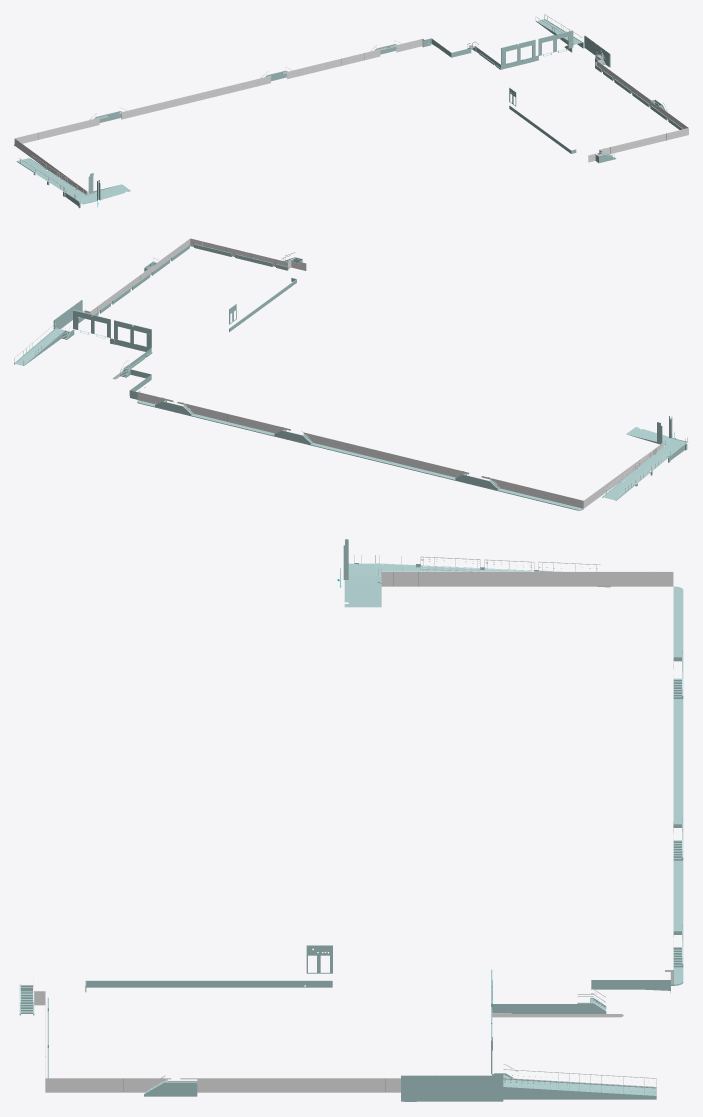
The model's file is storey-0-apron.glb.
3 renders of one model, top to bottom at view 1: azimuth 30°, elevation 25°; view 2: azimuth 150°, elevation 25°; view 3: azimuth 270°, elevation 25°, orthographic. The views are drawn at different scales.
Size of the model in its own units: 139 by 6.26 by 73.64.
